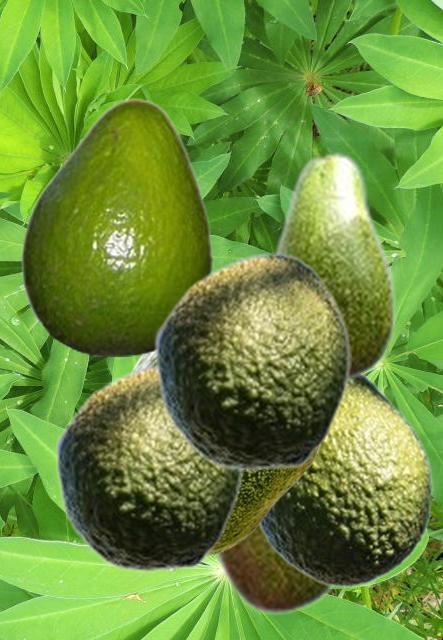avocado: (20, 97, 212, 355), (153, 252, 350, 470), (54, 363, 242, 571), (128, 353, 321, 555), (257, 375, 432, 587), (269, 150, 396, 383), (210, 527, 339, 616)
